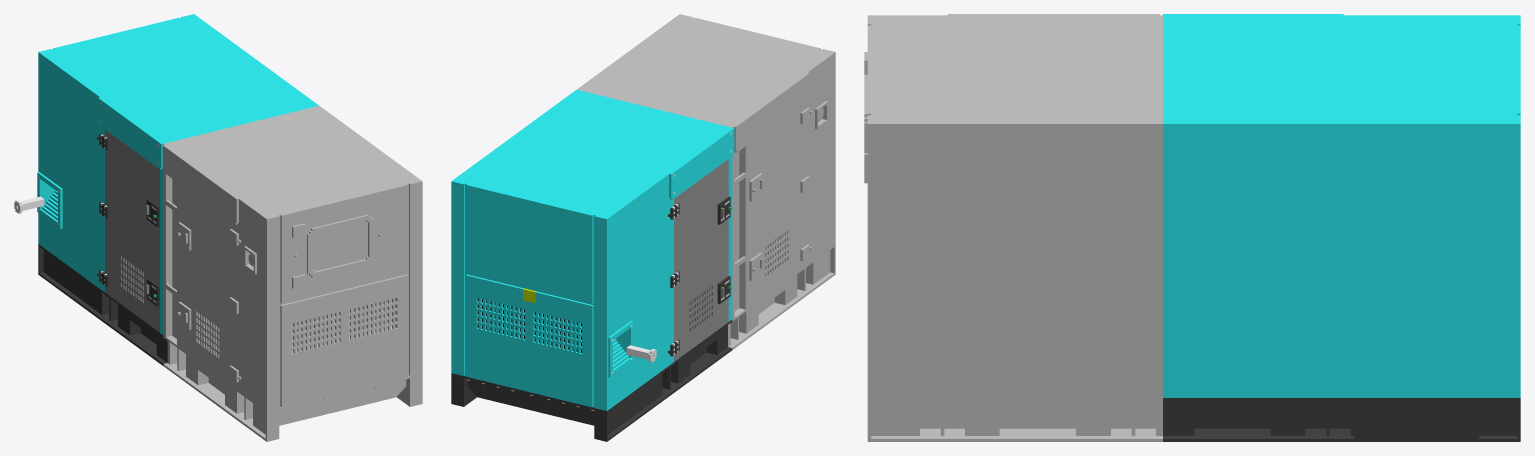
File: Generator.fbx
3 renders of one model, left to right at view 1: azimuth 30°, elevation 25°; view 2: azimuth 150°, elevation 25°; view 3: azimuth 270°, elevation 25°, orthographic. The views are drawn at different scales.
Visible parts, largest first — view 1: Generator1.000, Generator2.001, Generator1.002; view 2: Generator2.001, Generator1.000; view 3: Generator2.001, Generator1.000.
Boxes of the visible parts, x1,y1,x2,y2 form: Generator1.000: [162, 105, 422, 441]; Generator2.001: [37, 14, 318, 365]; Generator1.002: [312, 220, 367, 271]; Generator2.001: [451, 89, 734, 441]; Generator1.000: [577, 14, 835, 349]; Generator2.001: [1163, 14, 1520, 441]; Generator1.000: [864, 14, 1162, 441].
Bounding box in the file's own units: 9 × 10.1 × 18.9.
